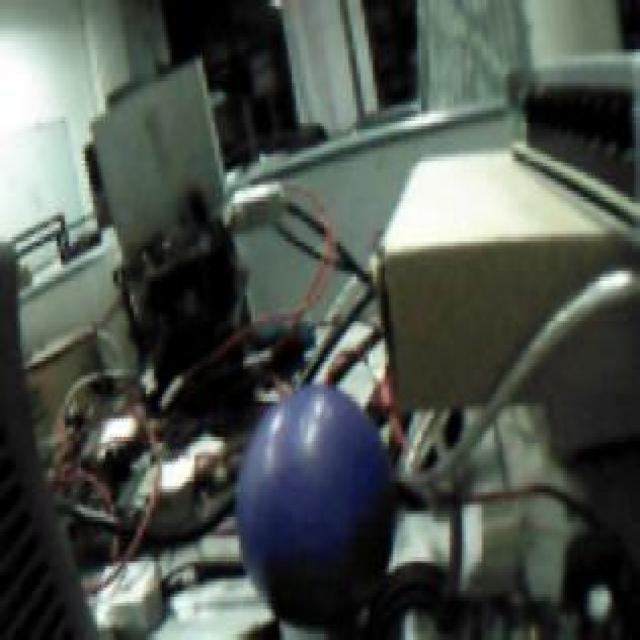BallPurple: (236, 387, 393, 620)
